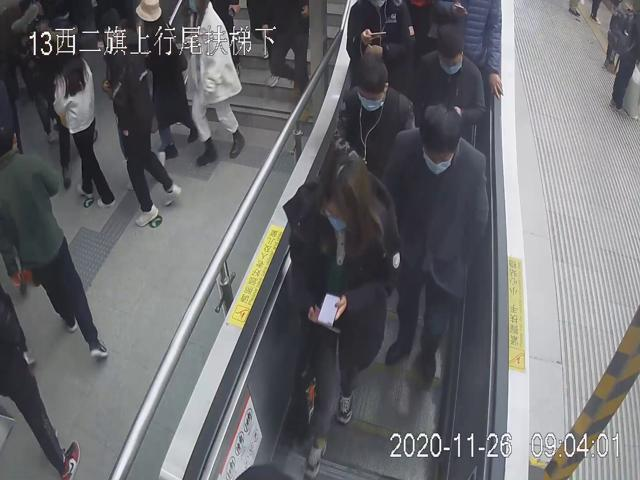person: (285, 153, 389, 469), (386, 99, 491, 404), (95, 4, 182, 231), (51, 23, 114, 212), (182, 0, 246, 167), (135, 0, 197, 160), (331, 51, 411, 172), (410, 25, 487, 141)
